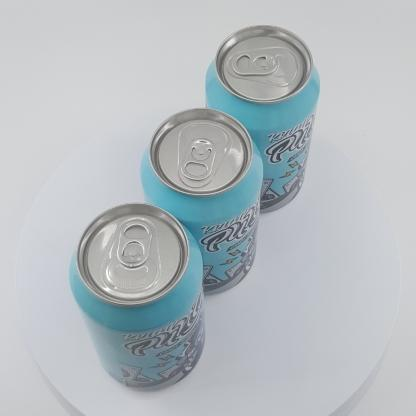-----------------350ML: (69, 202, 205, 392), (140, 107, 263, 295), (205, 24, 320, 213)
